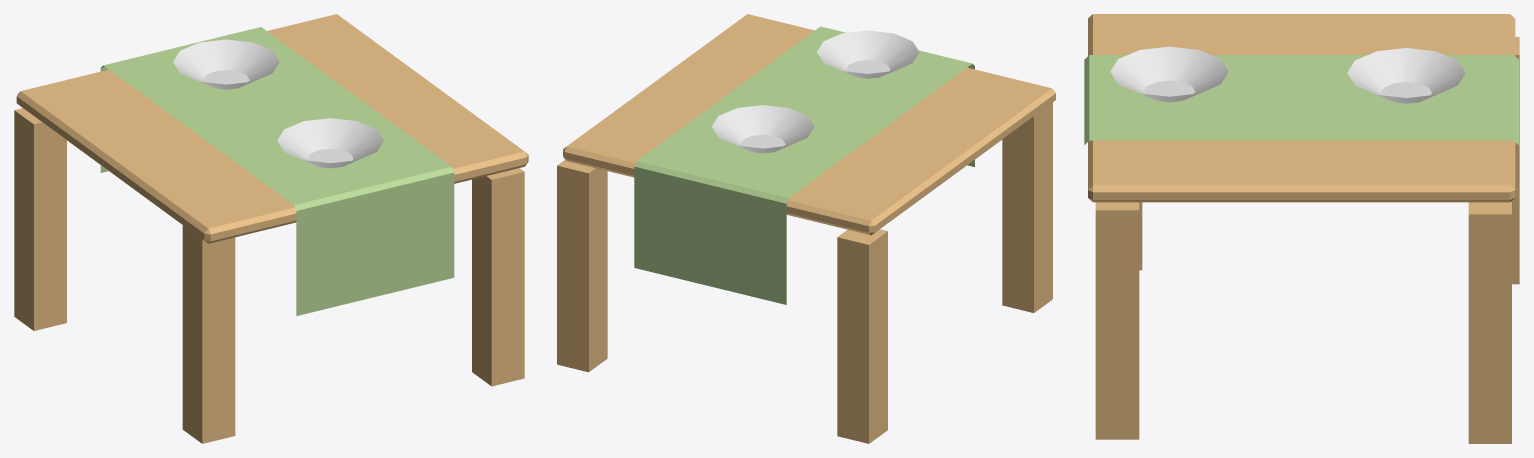
Rendered from dinner_solo_01.fbx.
The picture shows the model from 3 angles, left to right: view 1: azimuth 30°, elevation 25°; view 2: azimuth 150°, elevation 25°; view 3: azimuth 270°, elevation 25°; orthographic projection. The views are drawn at different scales.
Parts seen in each view (by area): view 1: pCube251, pCube249, pCube252, pCube250, pCube254, pCylinder100, pCylinder99; view 2: pCube251, pCube249, pCube254, pCube253, pCube250, pCylinder100, pCylinder99; view 3: pCube249, pCube251, pCube252, pCube253, pCylinder99, pCylinder100, pCube254.
Part boxes in pixels (x1,y1,x2,y2): pCube251: (100,27,454,315); pCube249: (16,14,528,243); pCube252: (472,168,524,386); pCube250: (182,225,235,443); pCube254: (14,108,66,330); pCylinder100: (173,39,279,89); pCylinder99: (277,118,383,168); pCube251: (634,26,974,304); pCube249: (563,14,1055,235); pCube254: (837,229,887,443); pCube253: (557,159,607,372); pCube250: (1002,102,1052,312); pCylinder100: (712,105,814,153); pCylinder99: (817,30,919,78); pCube249: (1088,14,1515,202); pCube251: (1084,55,1518,144); pCube252: (1095,202,1139,439); pCube253: (1468,201,1511,443); pCylinder99: (1110,46,1228,102); pCylinder100: (1347,48,1465,103); pCube254: (1512,37,1519,284).
Bounding box in the file's own units: 7.28 × 5.34 × 7.5.
